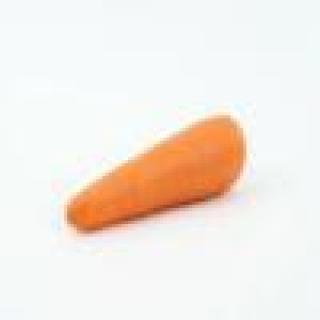Wortel: (49, 104, 260, 245)
